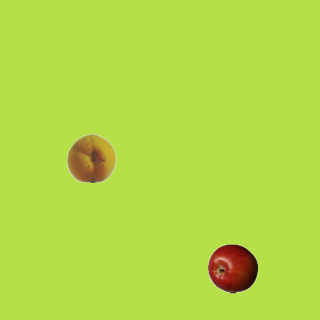Apple Braeburn: (207, 243, 257, 293)
Peach 2: (66, 132, 116, 182)
